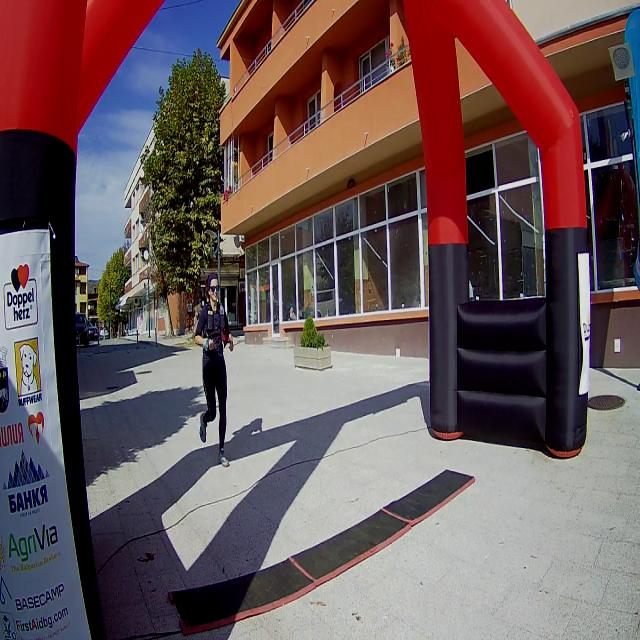runner: (181, 253, 241, 481)
